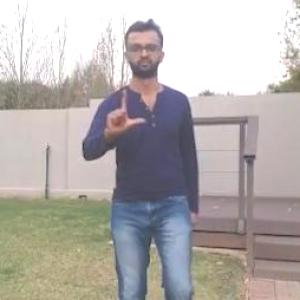land_hand: (98, 86, 148, 138)
